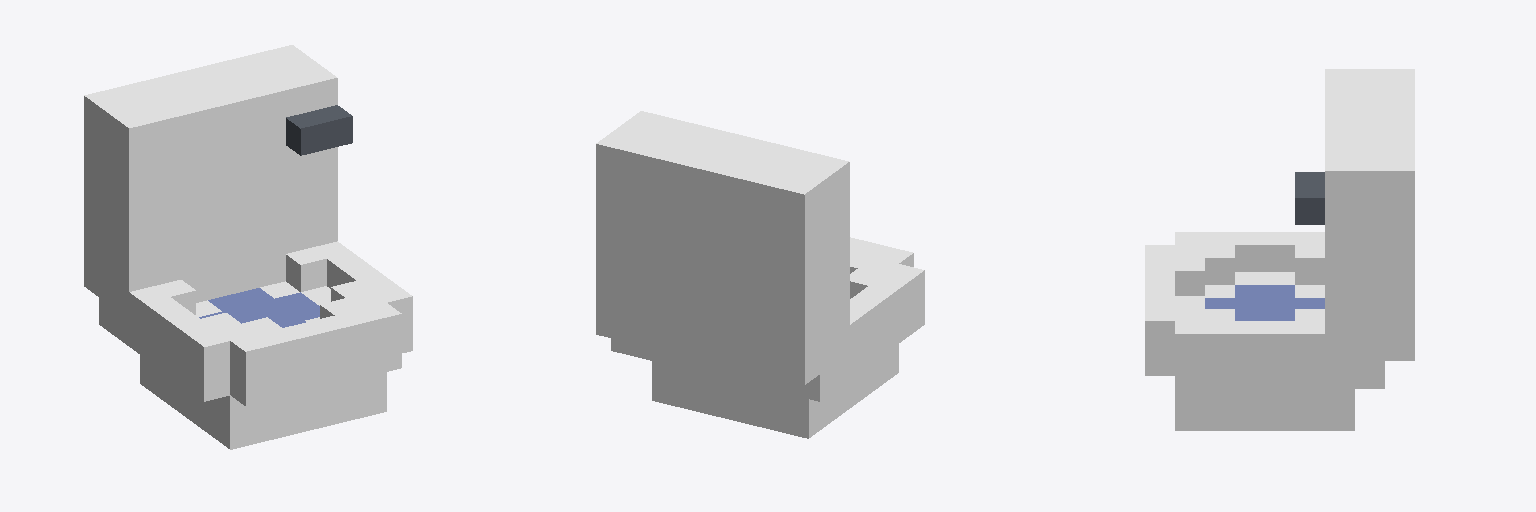
3 views of the same model, side by side, from view 1: azimuth 30°, elevation 25°; view 2: azimuth 150°, elevation 25°; view 3: azimuth 270°, elevation 25° (orthographic).
Visible parts, largest first — view 1: Model; view 2: Model; view 3: Model.
Part boxes in pixels (x1,y1,x2,y2): Model: (84,45,412,449); Model: (596,111,924,438); Model: (1145,69,1414,430).
Bounding box in the file's own units: 25.6 × 32 × 28.8.
Materials: 1 (1 with a texture image).